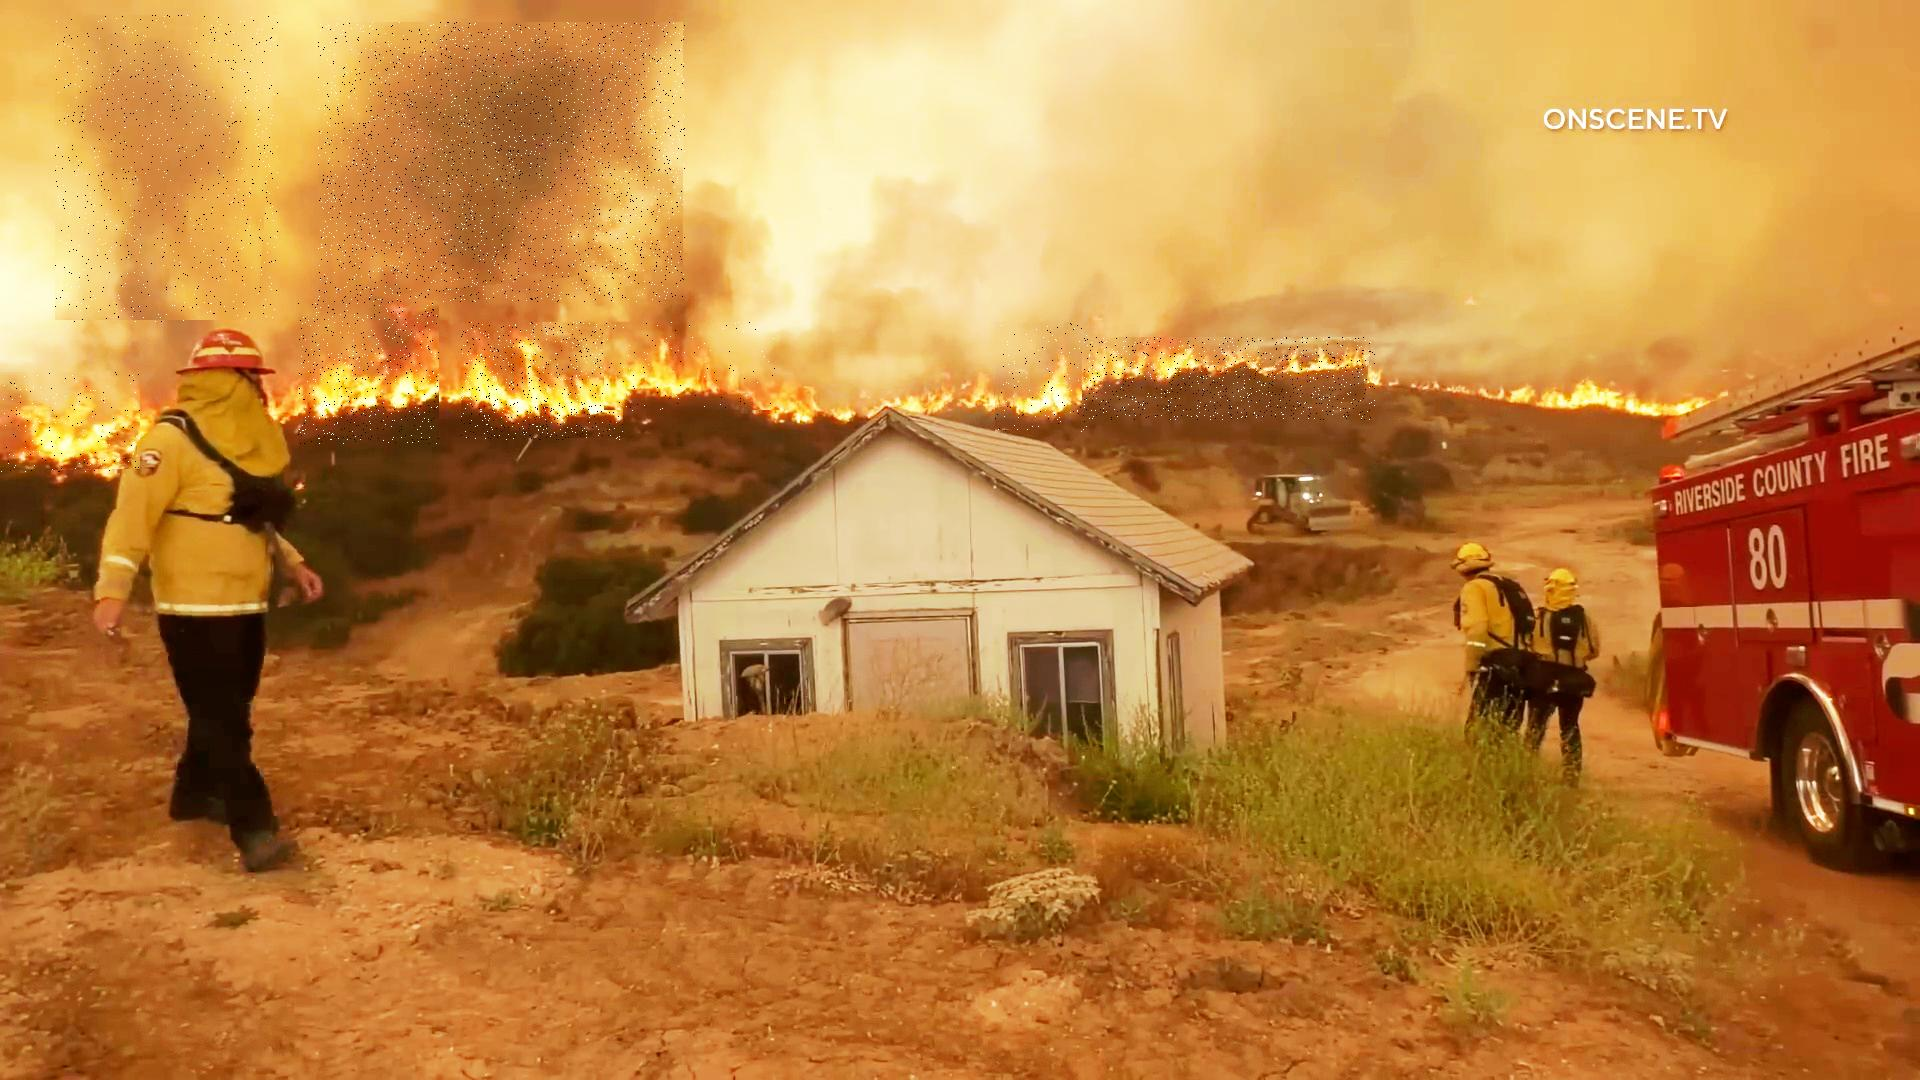fire: (1085, 338, 1375, 421), (298, 303, 439, 444), (462, 323, 624, 440), (603, 323, 781, 413), (0, 373, 140, 472), (996, 323, 1089, 433)
smoke: (319, 22, 686, 303), (55, 16, 278, 323)
